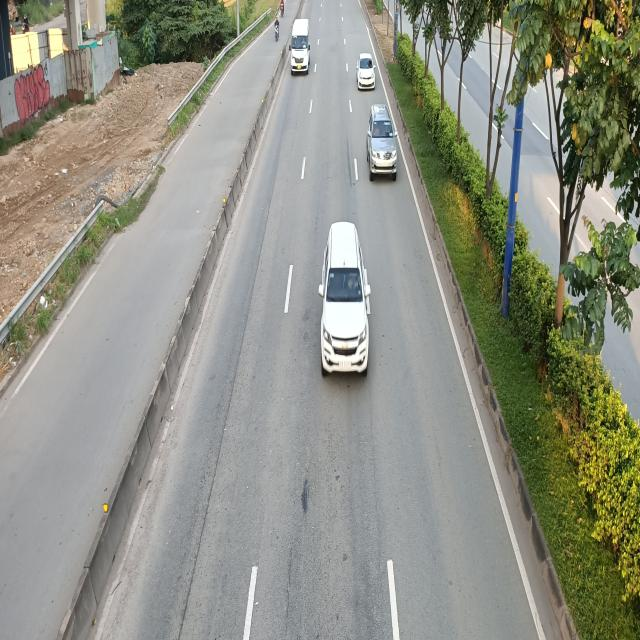car: (321, 222, 372, 376), (364, 106, 396, 181), (355, 53, 375, 90)
van: (289, 19, 310, 74)
